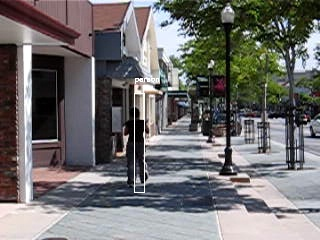person: (124, 108, 149, 188), (123, 108, 148, 188), (125, 108, 150, 188), (124, 107, 149, 187), (124, 109, 149, 189)
target_negative: (107, 82, 285, 195), (6, 106, 74, 233), (278, 59, 313, 235), (237, 185, 315, 219), (58, 122, 83, 164), (292, 205, 304, 239)
